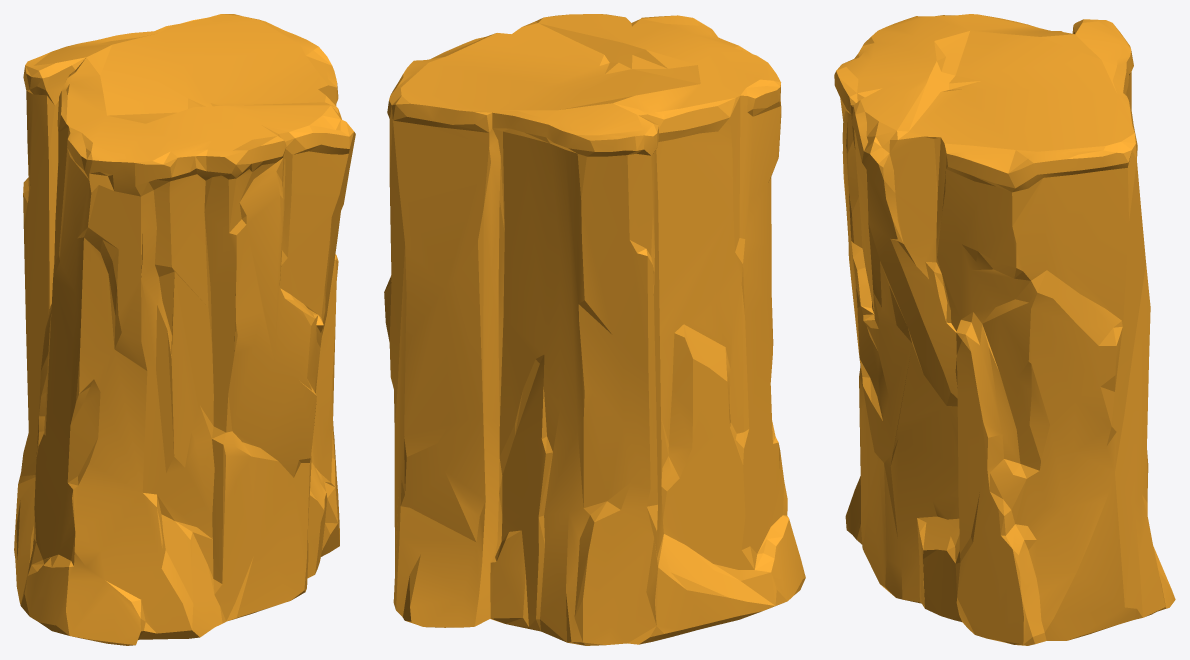
File: SM_Iceberg_Big_A_Plane.fbx
3 renders of one model, left to right at view 1: azimuth 30°, elevation 25°; view 2: azimuth 150°, elevation 25°; view 3: azimuth 270°, elevation 25°, orthographic. The views are drawn at different scales.
Parts seen in each view (by area): view 1: iceberg-big-a-plane; view 2: iceberg-big-a-plane; view 3: iceberg-big-a-plane.
Part boxes in pixels (x1,y1,x2,y2): iceberg-big-a-plane: [14, 14, 355, 645]; iceberg-big-a-plane: [384, 14, 805, 645]; iceberg-big-a-plane: [834, 14, 1175, 645].
Bounding box in the file's own units: 11.86 × 16.89 × 10.33.
